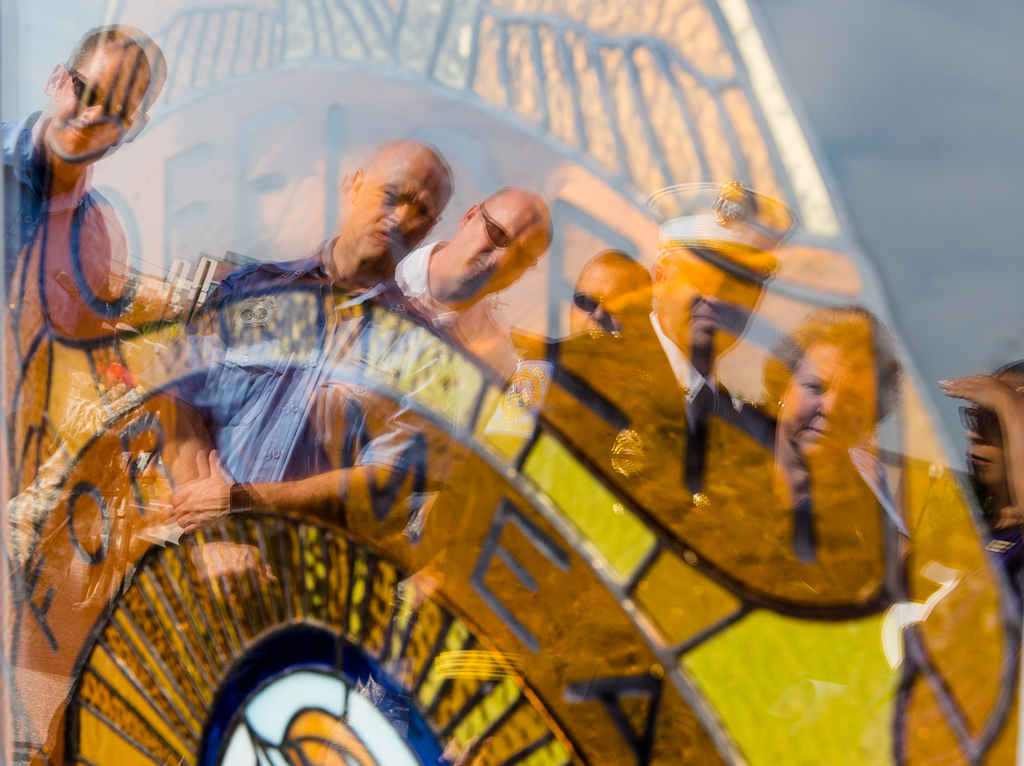Human_hand: (168, 449, 238, 534), (937, 372, 1016, 412)
